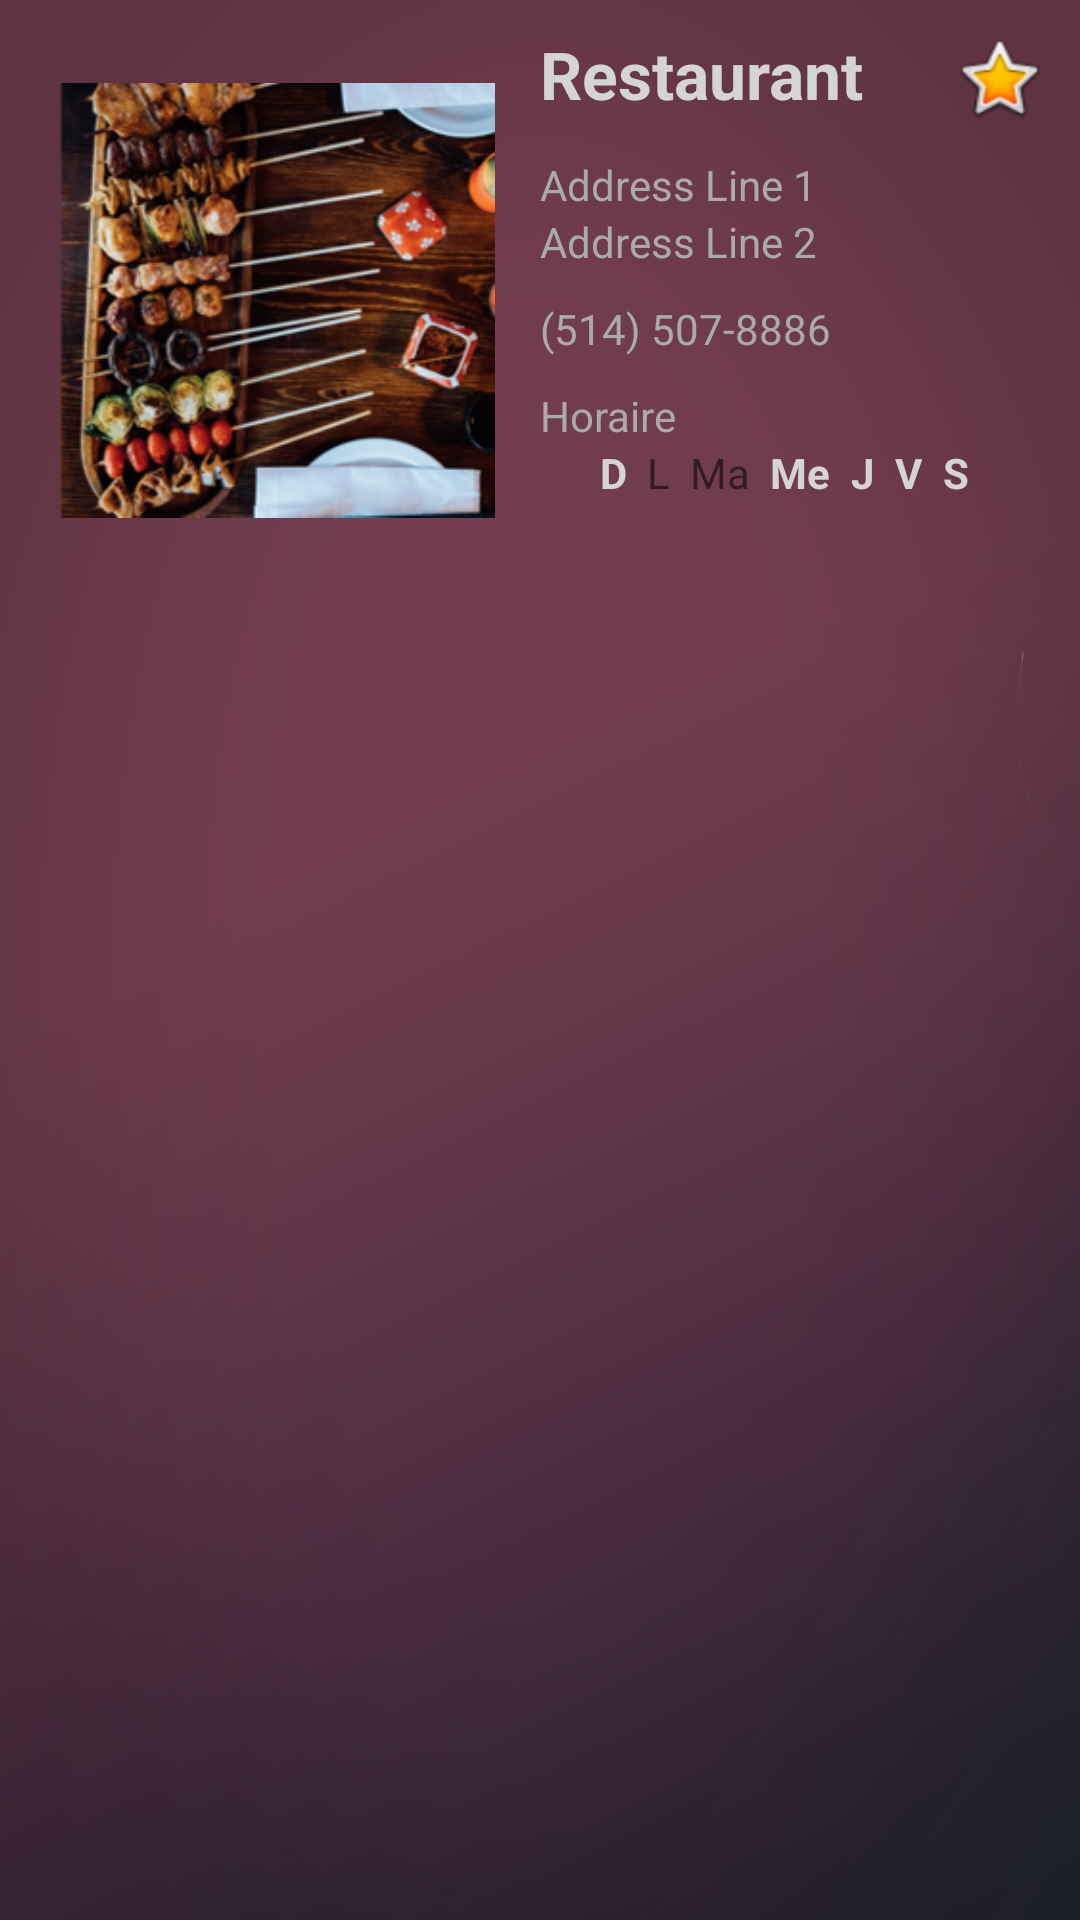

Named icons in this screenshot (1080x1920) and their centers, (x=x, y=y):
star on: (x=1000, y=78)
